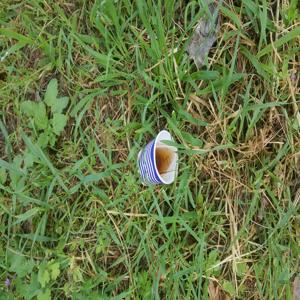cardboard: (130, 130, 192, 192)
plastic: (176, 2, 230, 71)
